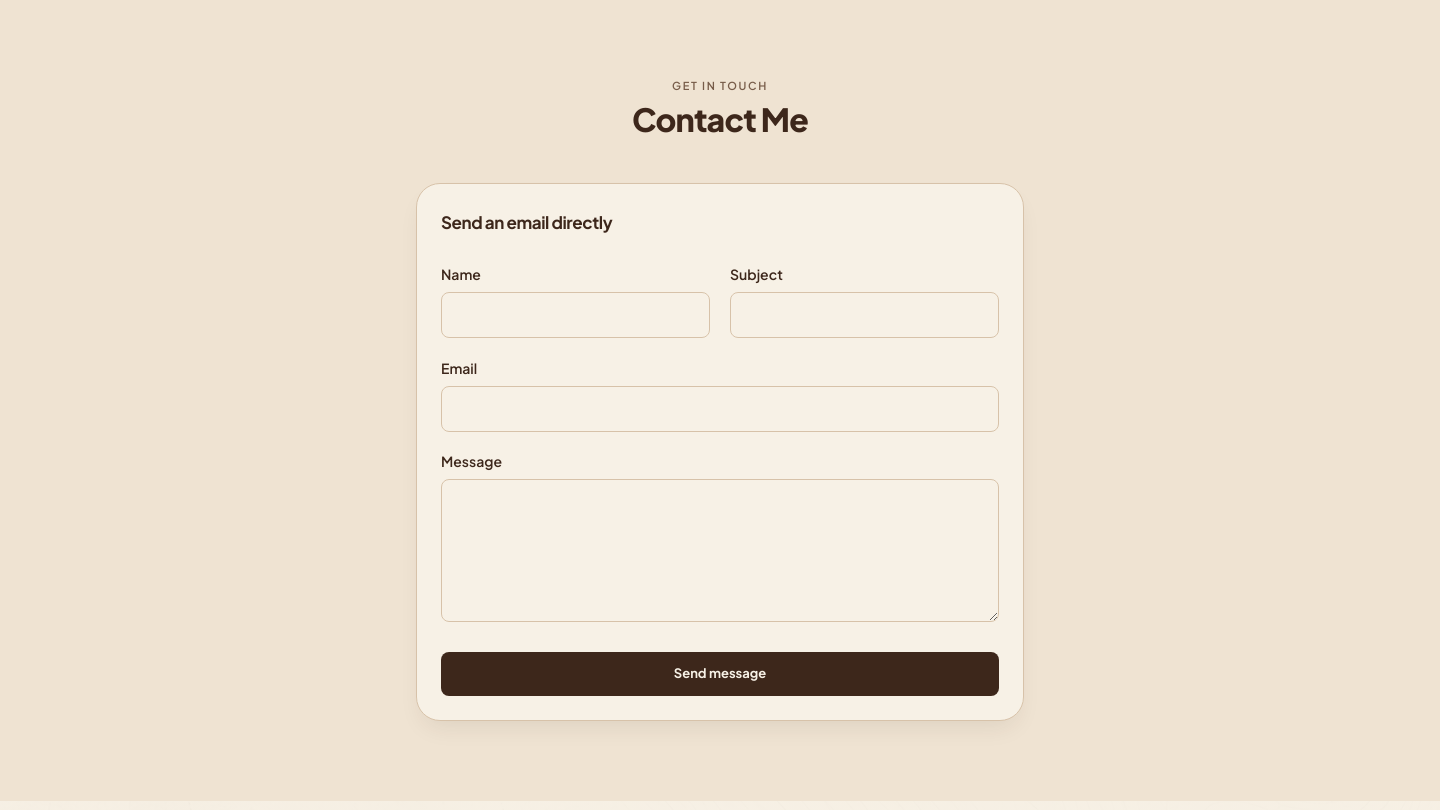
Test: Contact › clears values after success
Type "Alex" into the field labelled "Name" at (576, 315), box [441, 292, 710, 338]
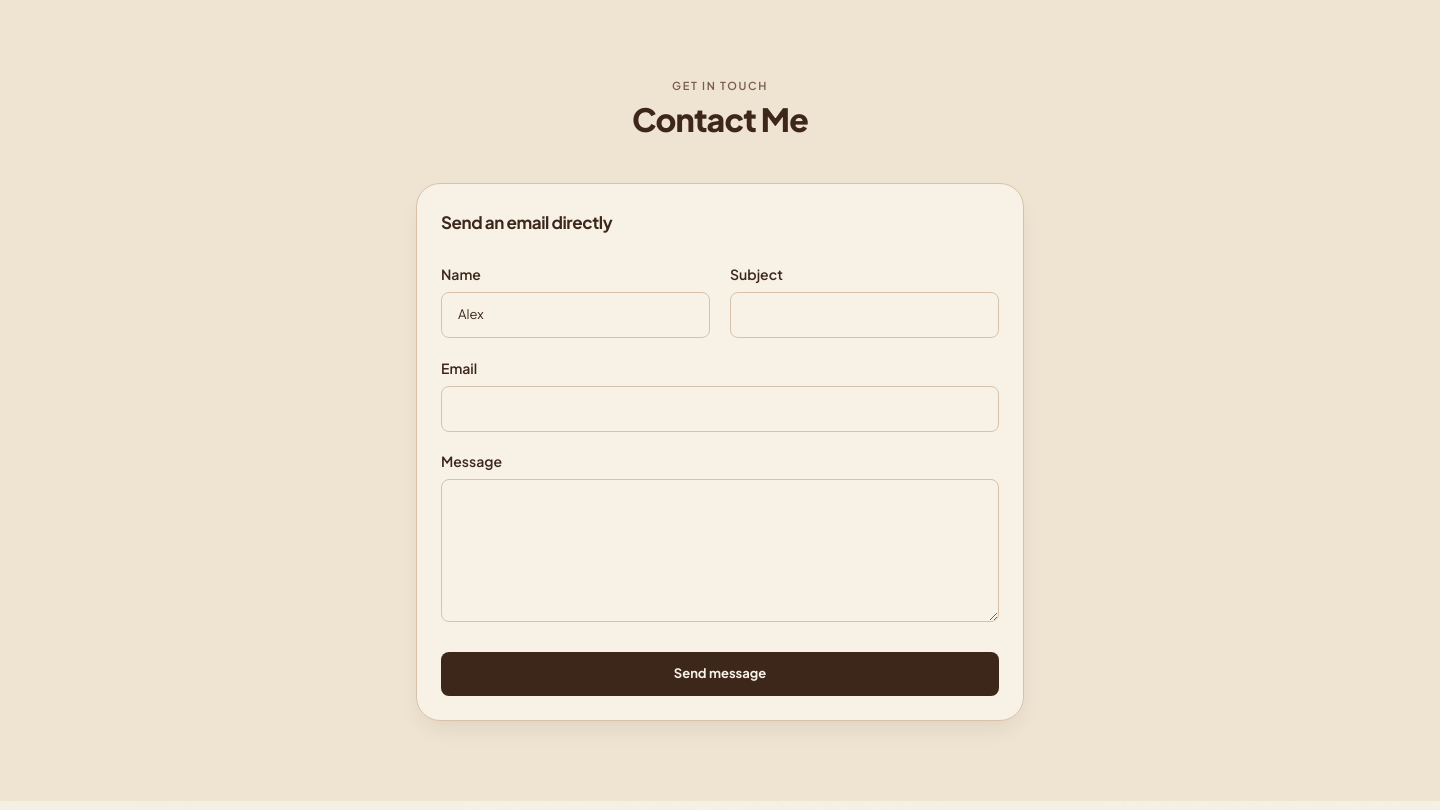
Type "Hello" into the field labelled "Subject" at (864, 315), box [730, 292, 999, 338]
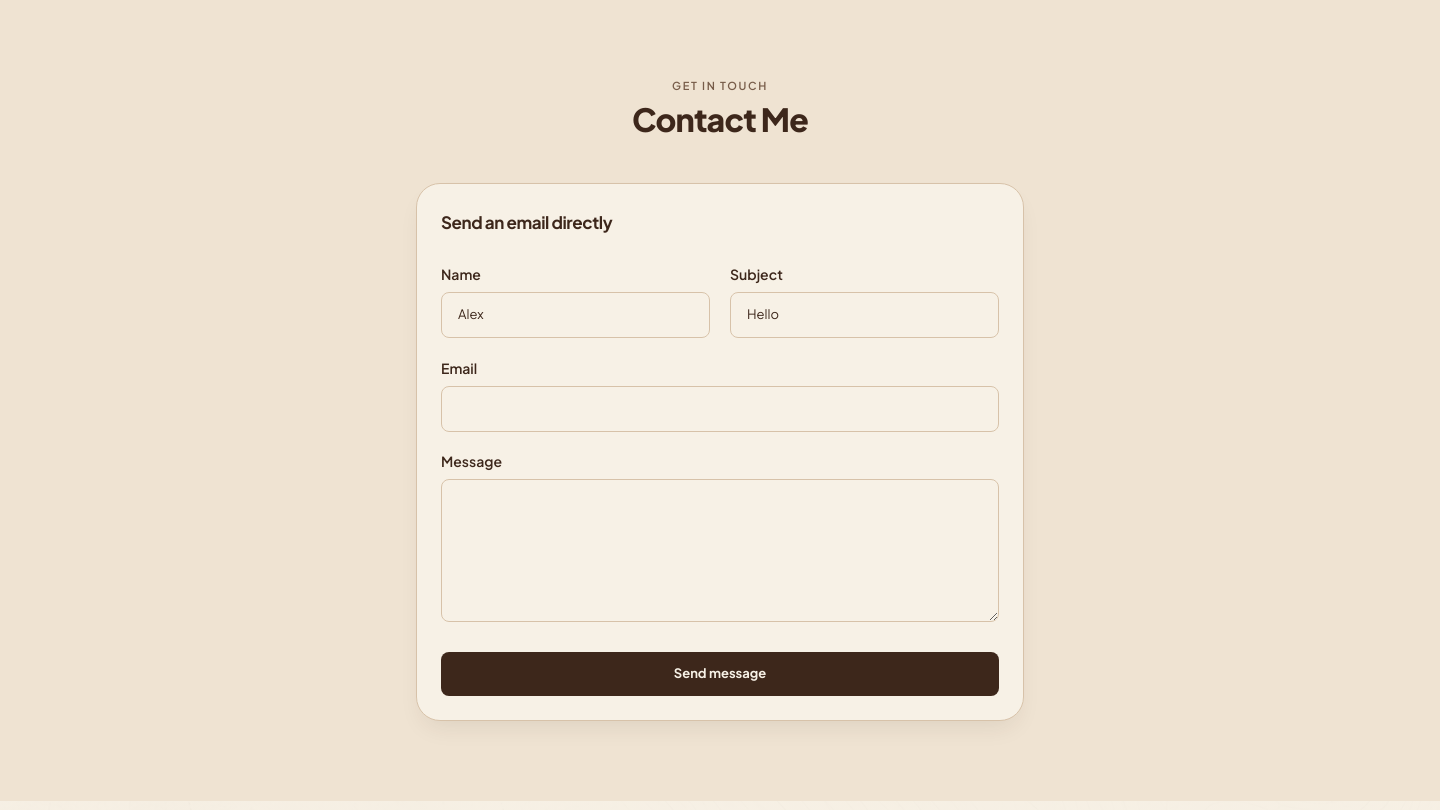
Type "alex@example.com" into the field labelled "Email" at (720, 408), box [441, 386, 999, 431]
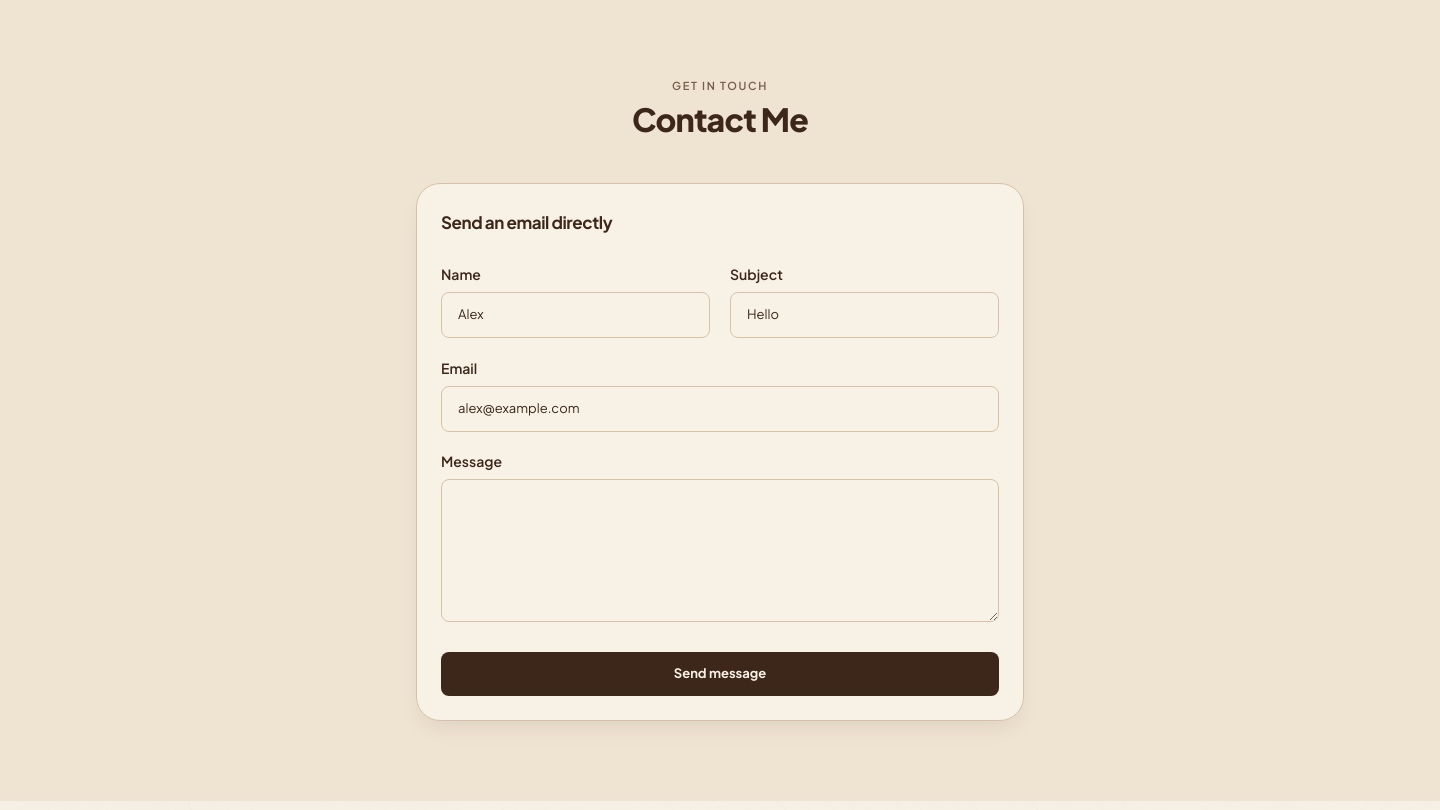
Type "A message" into the text box labelled "Message" at (720, 550), box [441, 479, 999, 622]
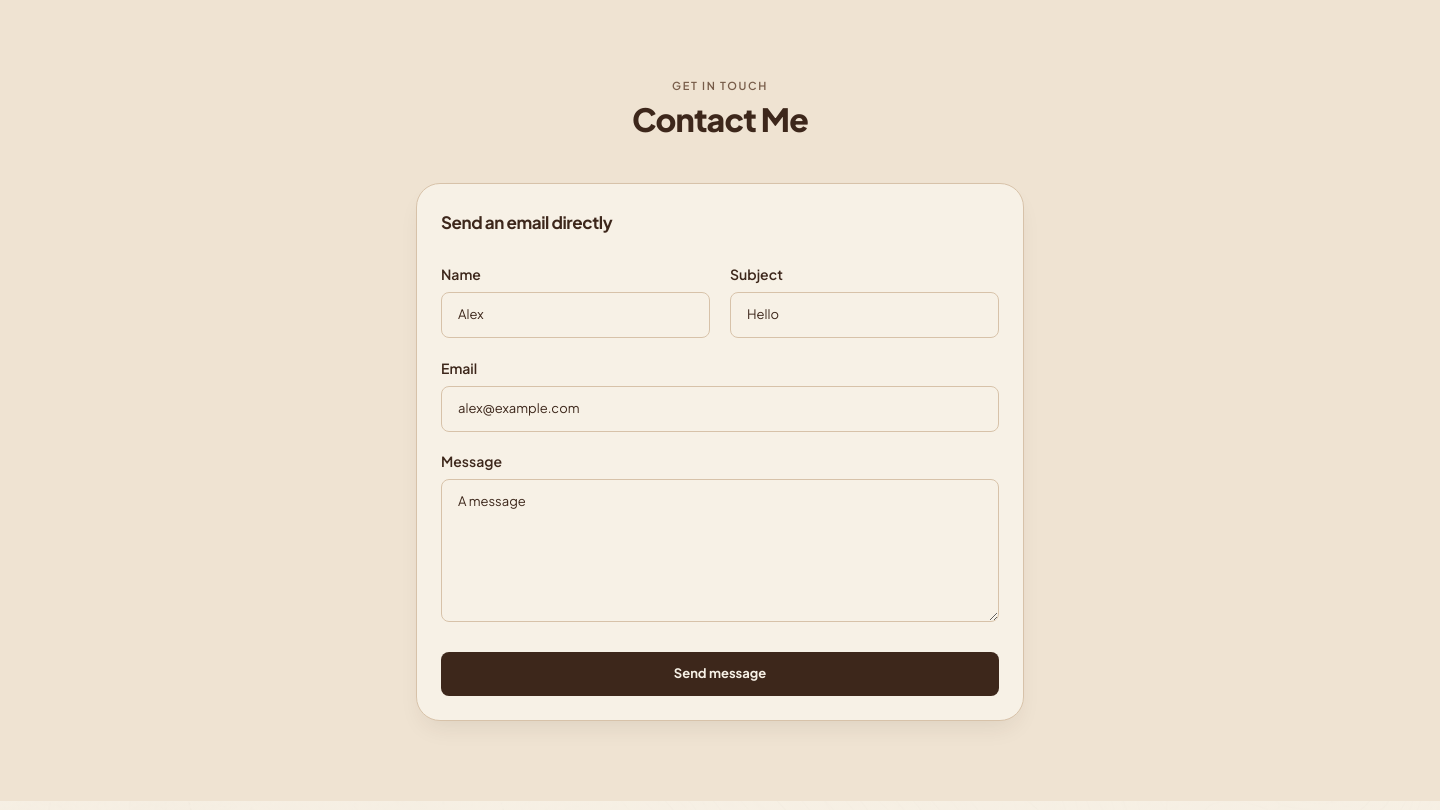
Click the button "Send message" at (720, 674), box [441, 652, 999, 696]
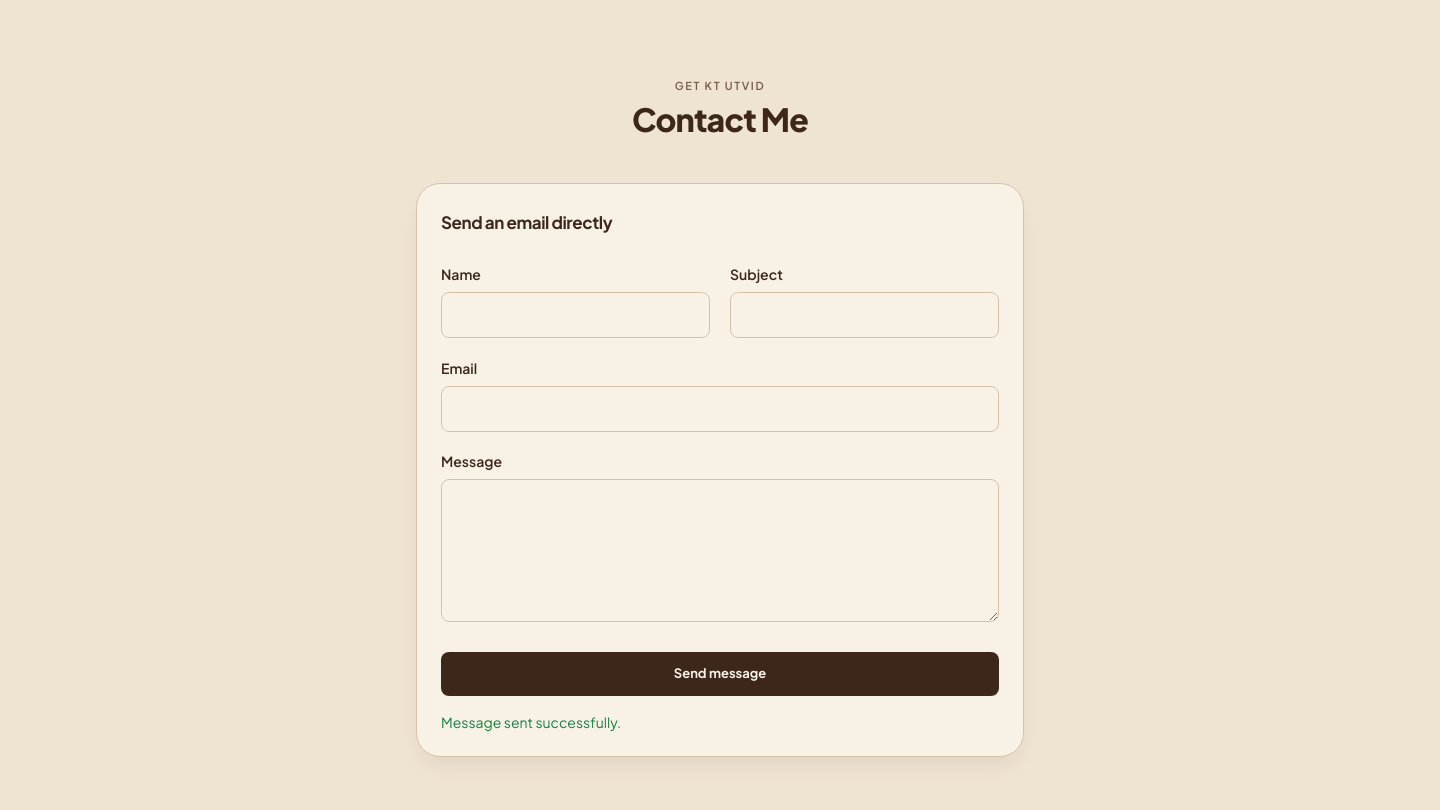
Check: the text "Message sent successfully." is shown, box [441, 712, 621, 730]
Check: the field labelled "Name" is empty, box [441, 292, 710, 338]
